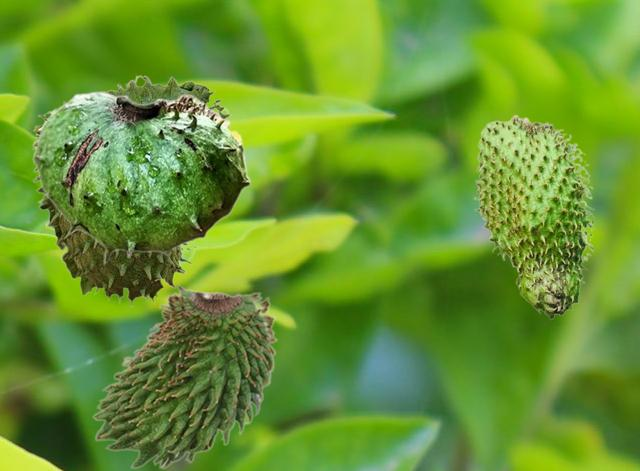guyabano: (32, 74, 232, 307), (32, 91, 250, 263), (91, 282, 277, 468), (473, 114, 595, 319)
